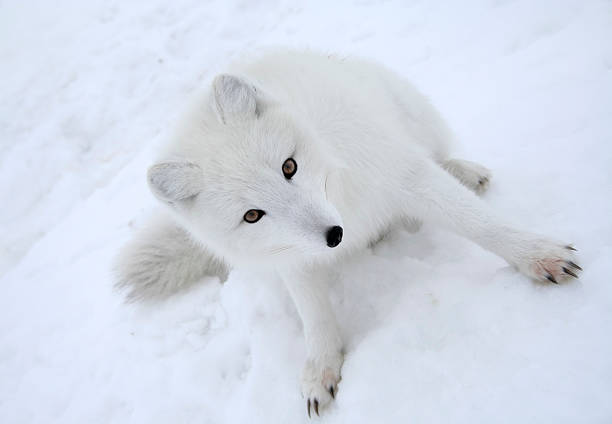arcticfox: (193, 110, 359, 277)
